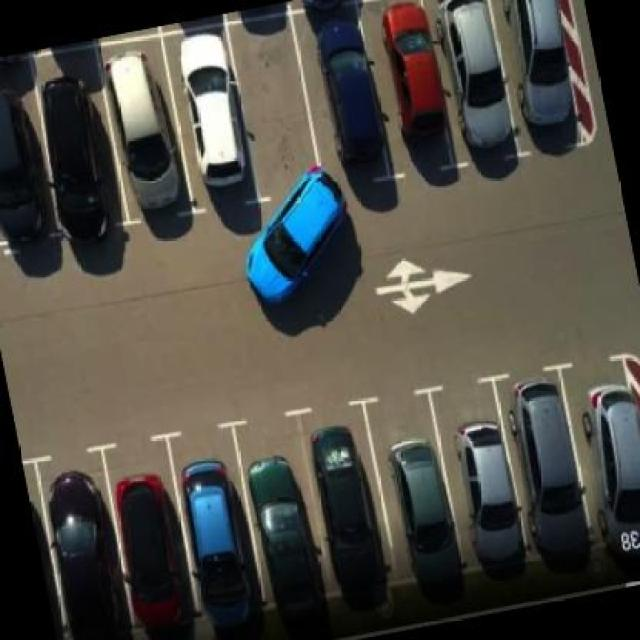Car: (503, 363, 607, 577), (167, 444, 269, 640), (102, 456, 198, 640), (229, 170, 360, 304), (33, 464, 132, 640), (243, 436, 323, 635), (24, 67, 118, 233), (304, 423, 387, 609), (104, 50, 189, 229), (441, 410, 526, 583), (383, 423, 464, 601), (570, 364, 640, 561), (499, 1, 592, 149), (174, 30, 260, 190), (300, 4, 391, 155), (427, 1, 509, 152), (379, 1, 452, 150), (1, 85, 56, 259)
Empty: (226, 10, 323, 190)
